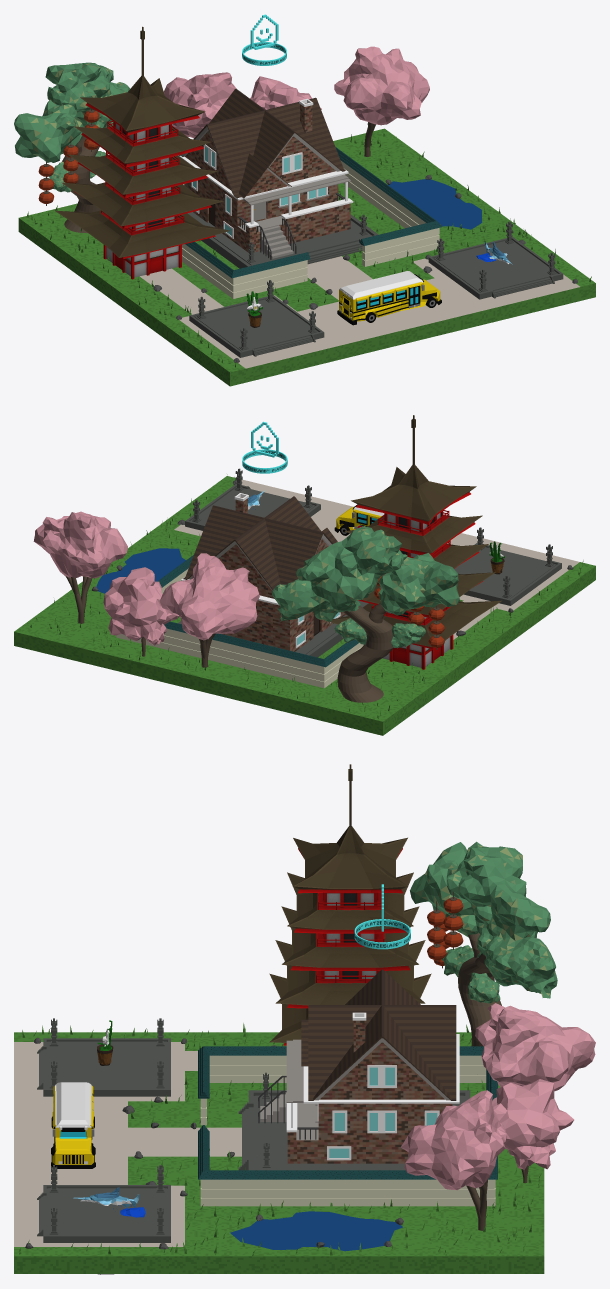
3 renders of one model, top to bottom at view 1: azimuth 30°, elevation 25°; view 2: azimuth 150°, elevation 25°; view 3: azimuth 270°, elevation 25°, orthographic. The views are drawn at different scales.
Visible parts, largest first — view 1: Cube.005, Cube.117, VEHICLES_SCHOOL_BUS, TYPE_PREMIUM; view 2: Cube.005, Cube.117, TYPE_PREMIUM, VEHICLES_SCHOOL_BUS; view 3: Cube.005, Cube.117, VEHICLES_SCHOOL_BUS, TYPE_PREMIUM, ANIMAL_PEZ_ESPADA.
Part boxes in pixels (x1,y1,x2,y2): Cube.005: (14,26,595,386); Cube.117: (178,88,353,259); VEHICLES_SCHOOL_BUS: (337,271,441,325); TYPE_PREMIUM: (242,14,286,65); Cube.005: (14,415,595,735); Cube.117: (181,493,345,651); TYPE_PREMIUM: (242,421,287,473); VEHICLES_SCHOOL_BUS: (334,504,384,535); Cube.005: (14,764,595,1273); Cube.117: (258,969,459,1163); VEHICLES_SCHOOL_BUS: (51,1082,95,1168); TYPE_PREMIUM: (354,884,410,949); ANIMAL_PEZ_ESPADA: (72,1187,145,1217).
Bounding box in the file's own units: 4528 × 2663 × 4389.
47 materials, 7 textured.
